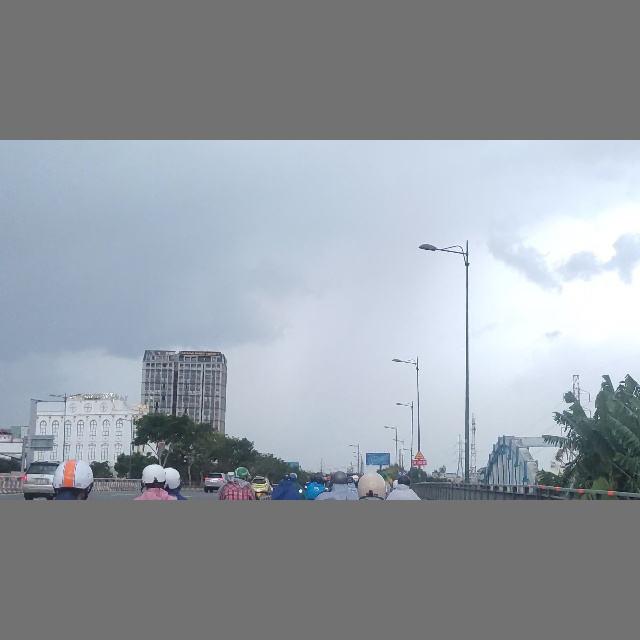W.245a: (414, 449, 425, 460)
